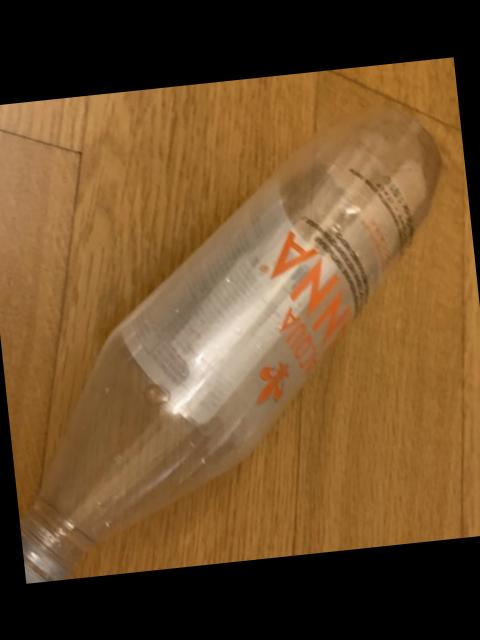plastic: (19, 107, 442, 584)
